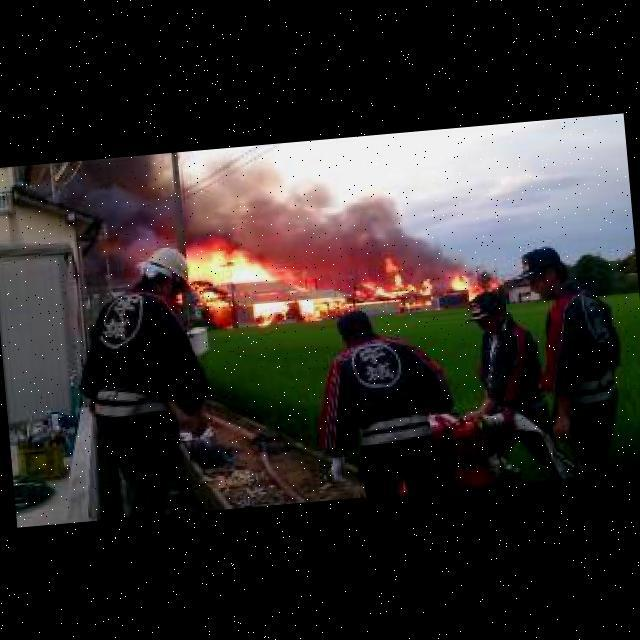Fire: (186, 248, 282, 308), (347, 255, 433, 310), (296, 295, 352, 320), (451, 271, 497, 301), (252, 301, 294, 326), (282, 269, 312, 293)
Smoke: (201, 154, 415, 278)
